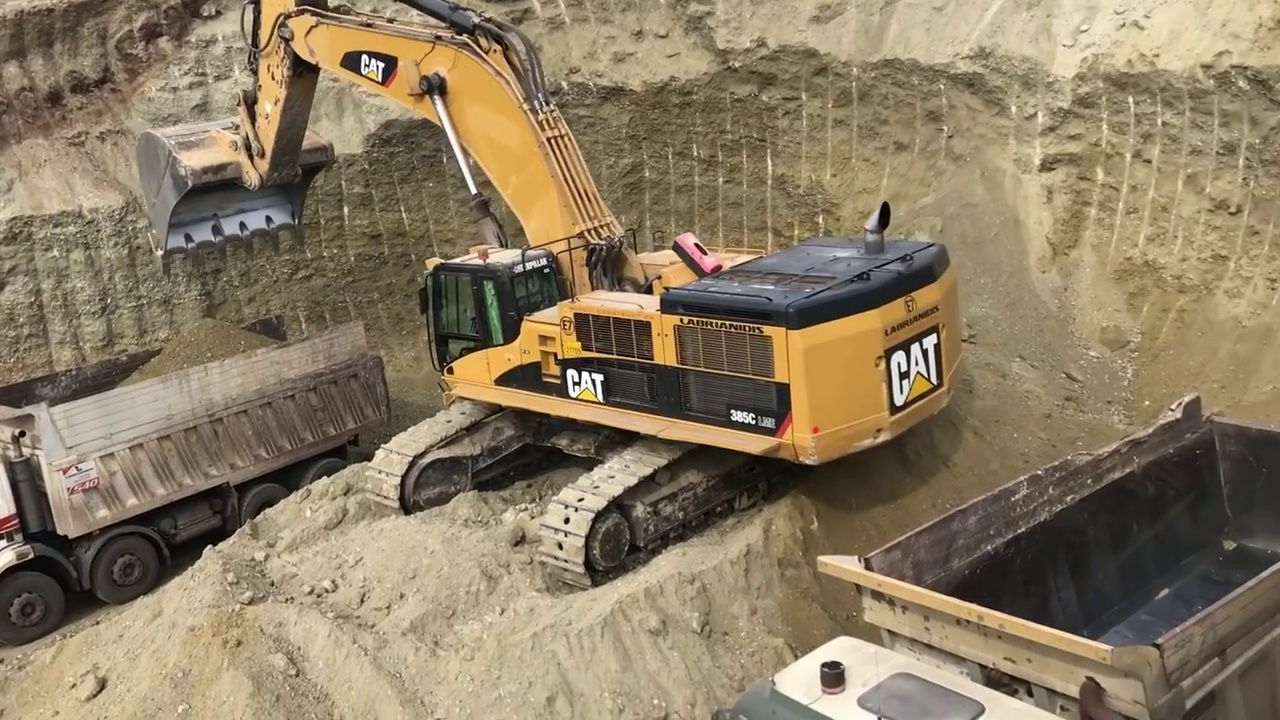excavator: (135, 2, 962, 582)
truck: (682, 395, 1279, 720), (1, 311, 392, 647)
